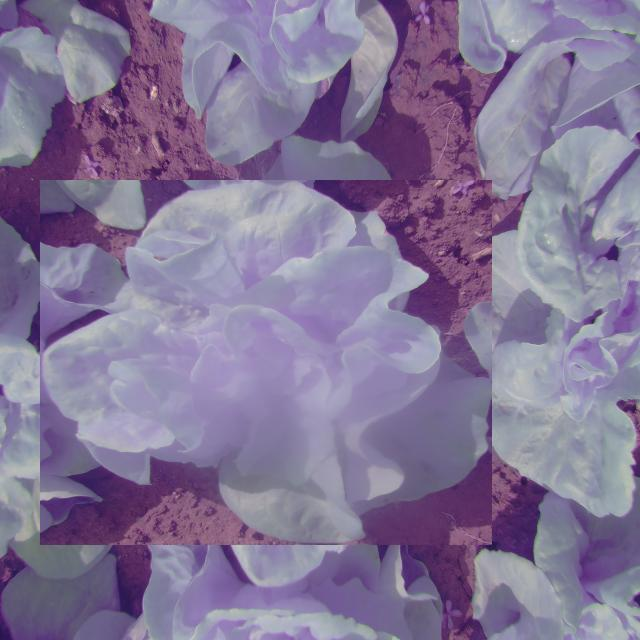vege: (62, 159, 470, 567)
